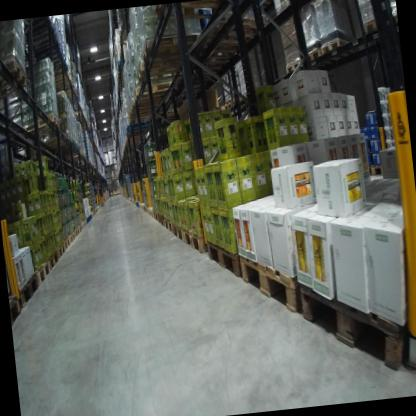forklift: (91, 164, 106, 208)
pallet: (234, 234, 416, 377), (198, 7, 266, 55), (138, 24, 205, 67), (149, 0, 240, 26), (204, 231, 243, 279), (132, 51, 190, 81), (318, 30, 365, 65), (131, 76, 181, 106), (0, 55, 30, 103), (14, 272, 42, 313), (278, 47, 322, 73), (17, 114, 62, 139), (357, 9, 390, 41), (182, 224, 210, 252), (31, 256, 53, 288), (42, 131, 73, 150), (8, 290, 25, 323), (44, 245, 62, 273), (171, 217, 184, 243), (57, 234, 72, 253), (221, 99, 237, 115), (53, 240, 66, 259), (157, 209, 165, 227), (72, 224, 81, 240), (76, 220, 84, 238), (164, 218, 173, 233), (67, 229, 75, 244), (152, 208, 159, 225), (223, 97, 233, 106), (80, 219, 85, 229), (84, 218, 88, 226)
